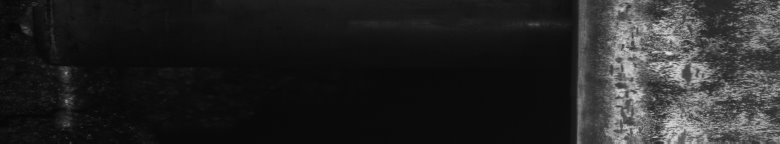kb: (598, 4, 776, 136)
